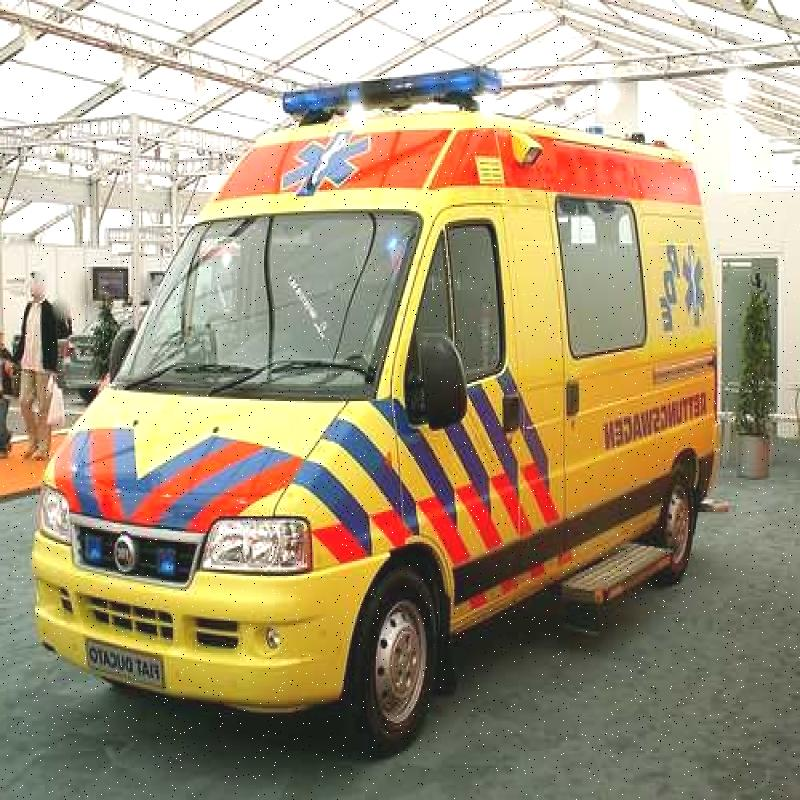AmbulanceSiren: (277, 54, 493, 130)
